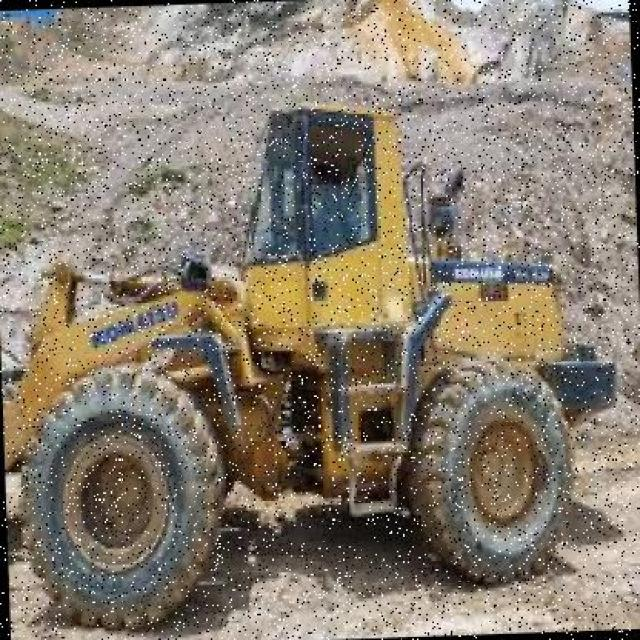buldozerpayloadergrader: (0, 82, 625, 629)
